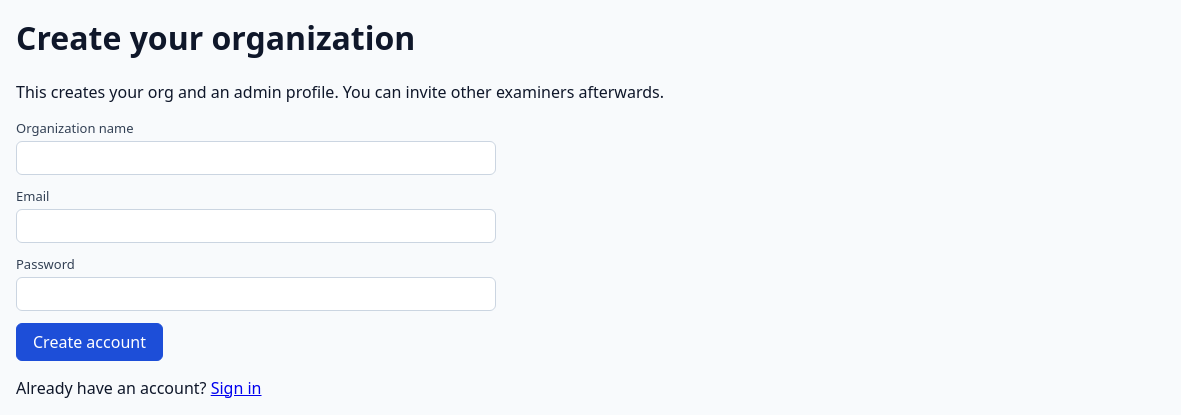
it: RegisterPage › shows the TOTP enrollment step after a successful registration
The image size is (1181, 415).
Step 1. Type "Acme" into the field labelled "Organization name" → (256, 158), box [16,141,496,175]
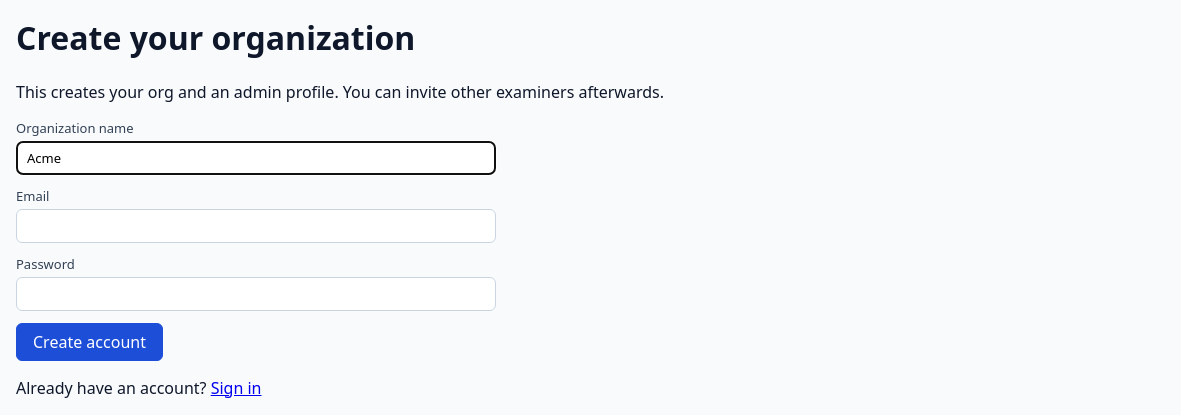
Step 2. Type "a@example.com" into the field labelled "Email" → (256, 226), box [16,209,496,243]
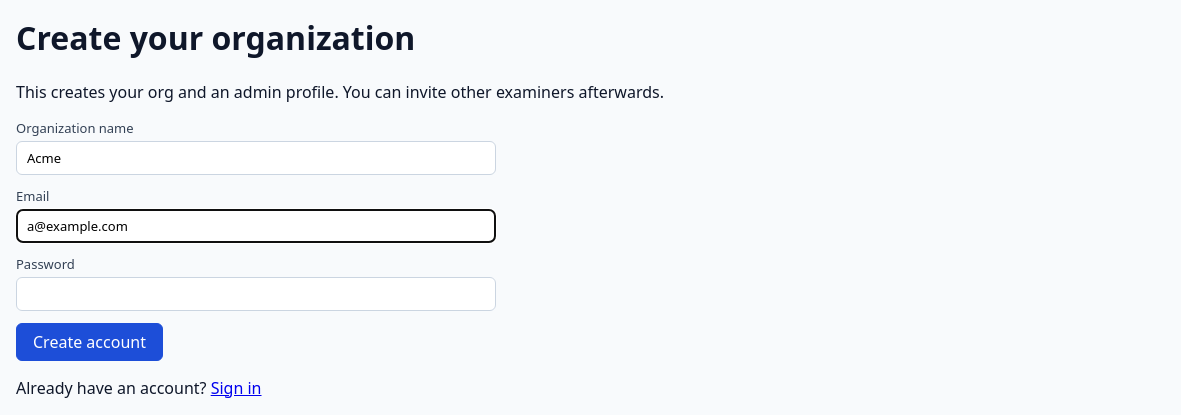
Step 3. Type "hunter2hunter2" into the password field labelled "Password" → (256, 294), box [16,277,496,311]
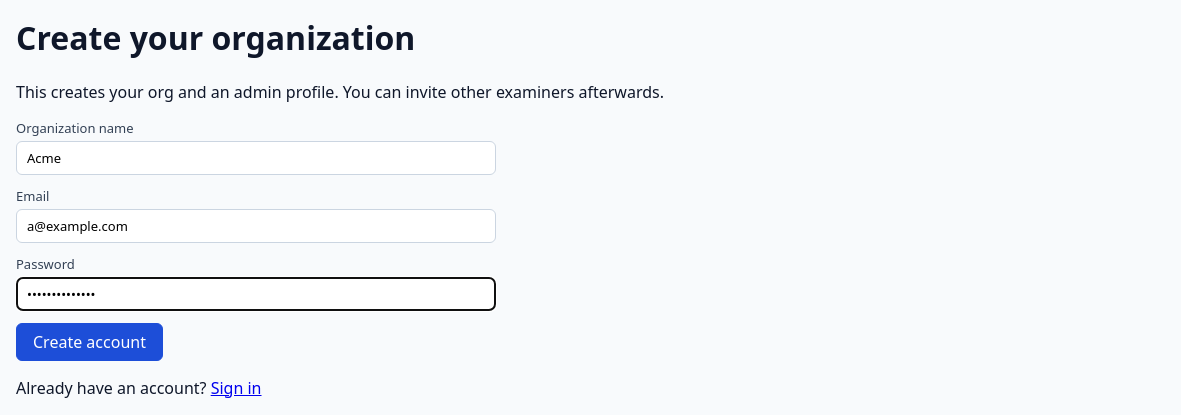
Step 4. Click the button "Create account" → (89, 342), box [16,323,163,361]
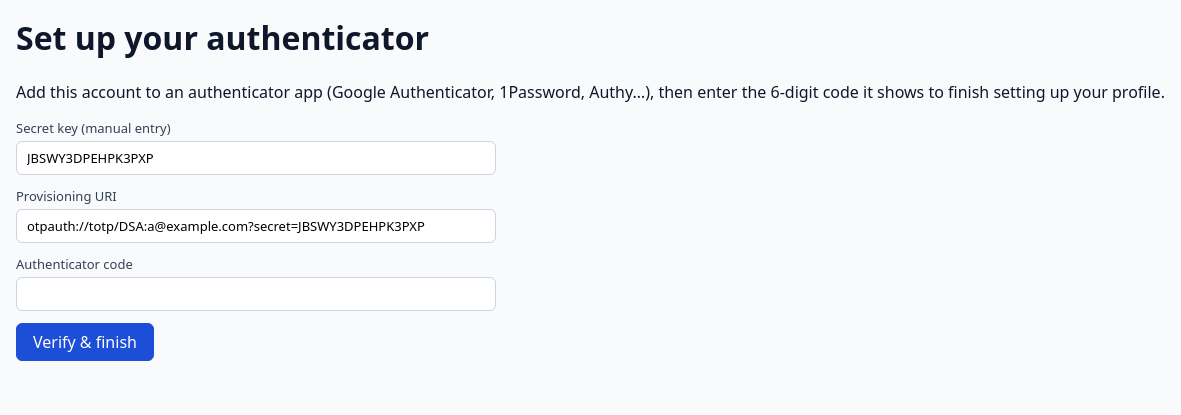
expect the heading "Set up your authenticator" is shown: met, box [16,16,429,59]
expect the field showing "JBSWY3DPEHPK3PXP" is shown: met, box [16,141,496,175]
